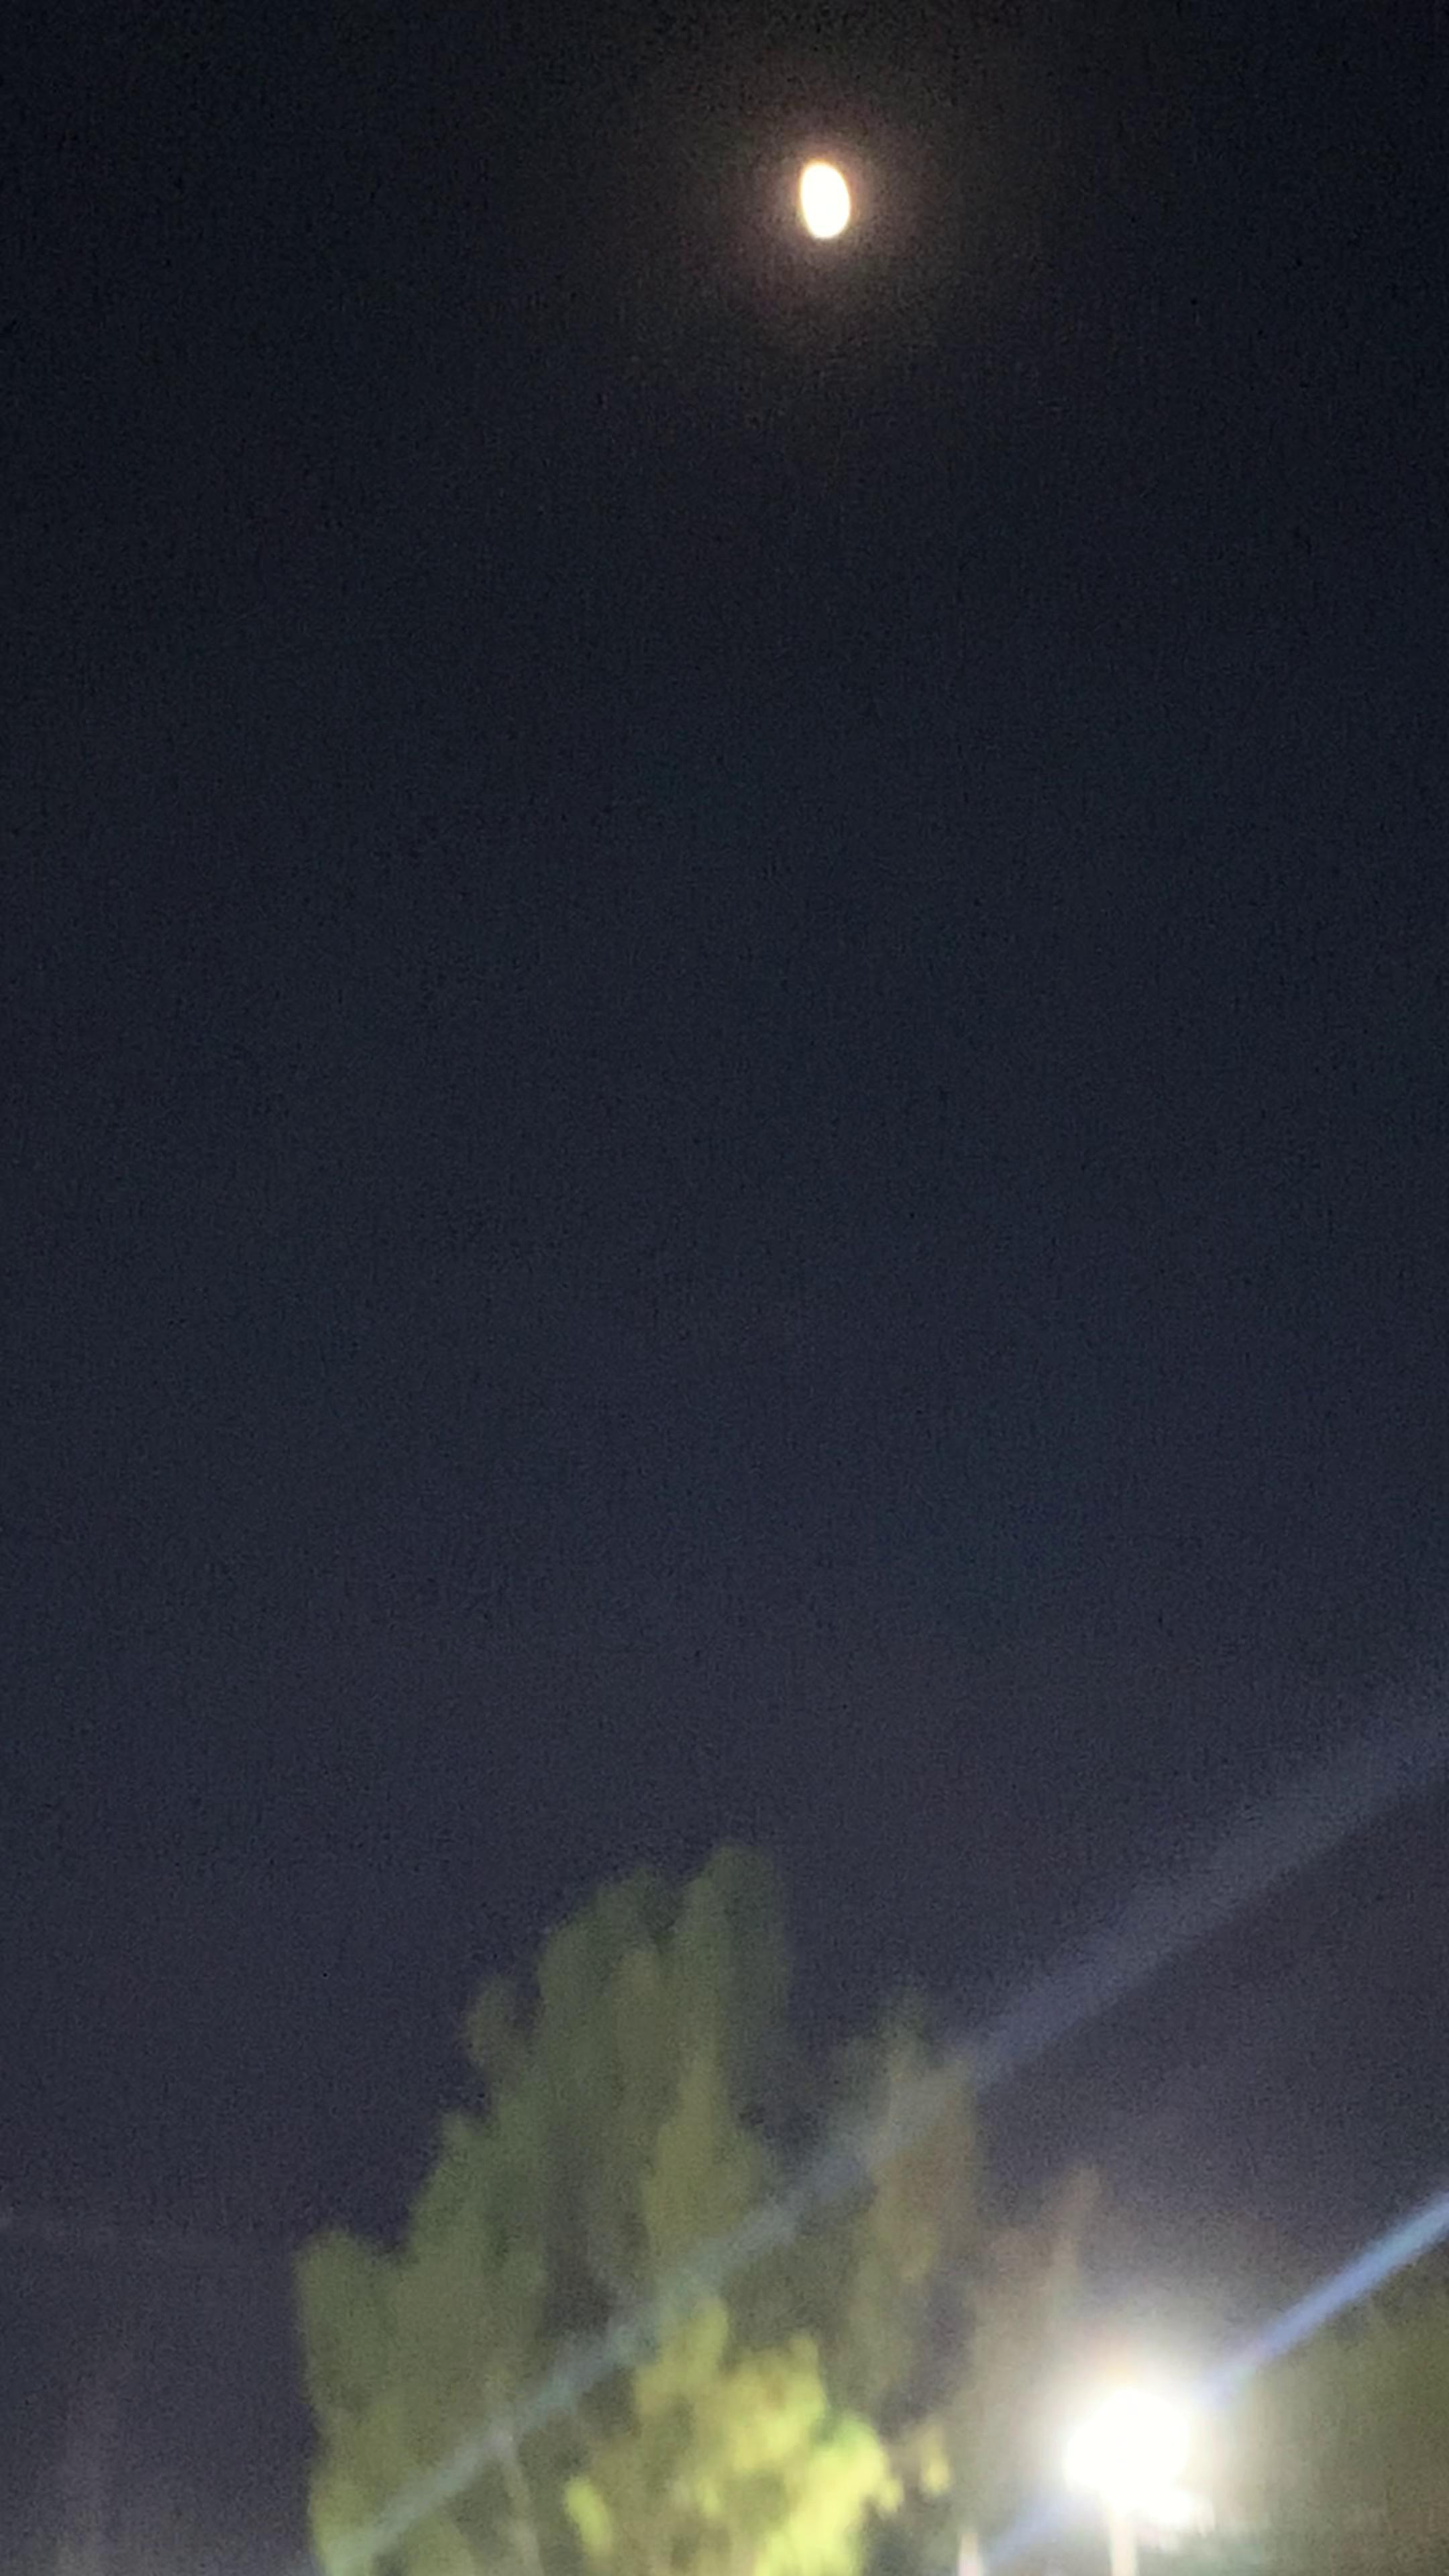moon: (755, 142, 902, 280)
